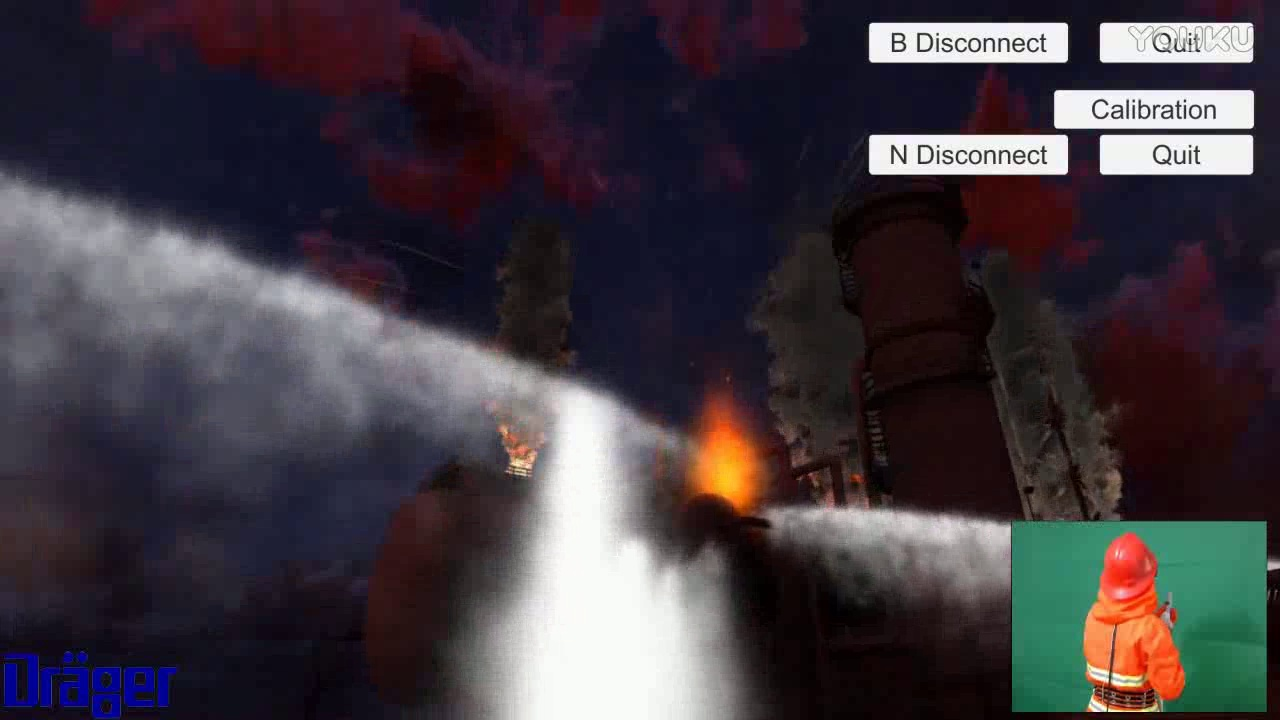fire: (691, 384, 766, 526)
